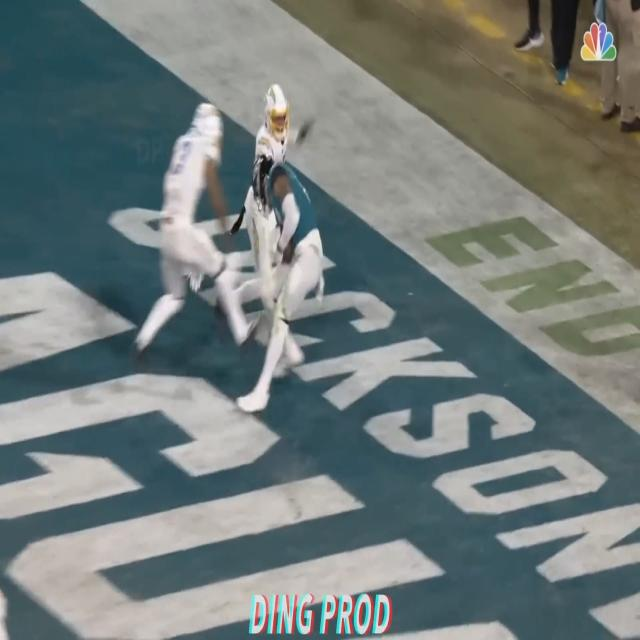football: (268, 223, 290, 264)
players: (155, 100, 225, 375), (256, 146, 323, 403), (238, 76, 290, 328)
